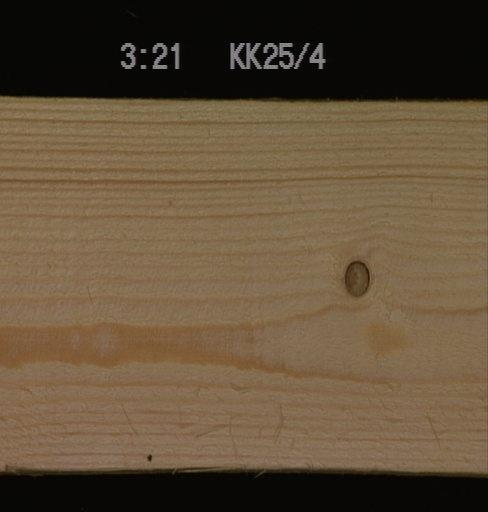dry_knot: (341, 258, 369, 298)
